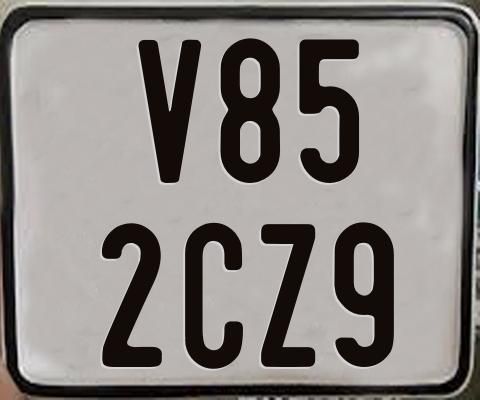2: (101, 222, 166, 368)
5: (298, 36, 363, 181)
8: (219, 38, 280, 185)
9: (331, 221, 394, 369)
C: (183, 222, 242, 370)
V: (138, 37, 205, 183)
Z: (259, 221, 315, 368)
